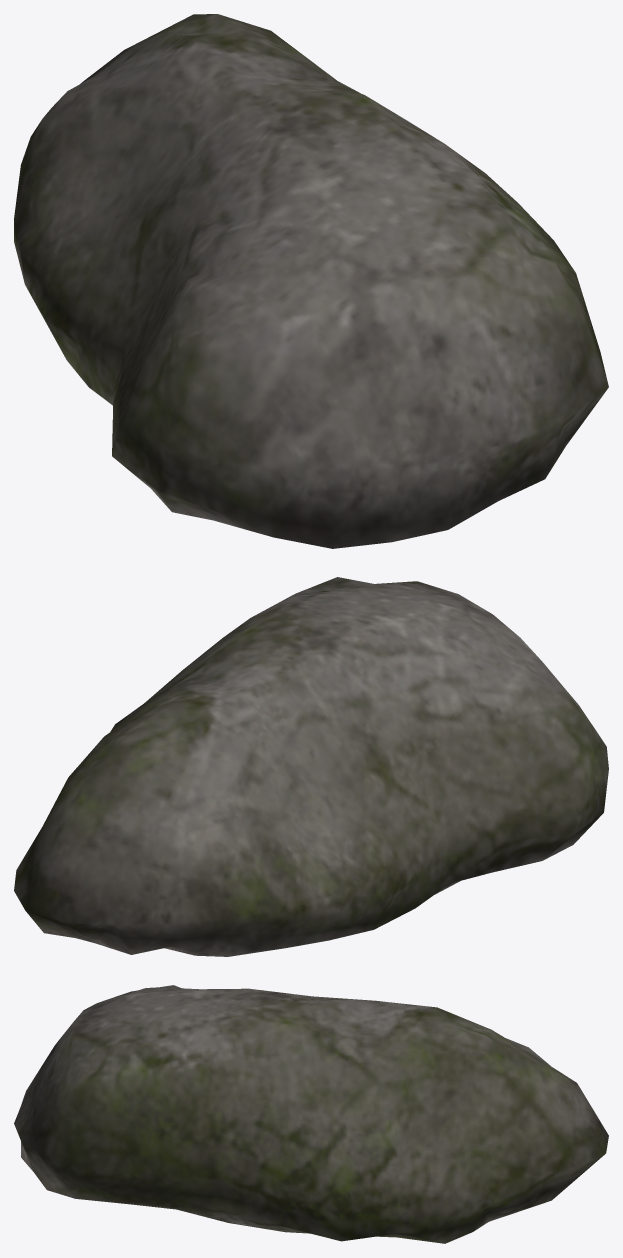
File: rock3.glb
The picture shows the model from 3 angles, top to bottom: view 1: azimuth 30°, elevation 25°; view 2: azimuth 150°, elevation 25°; view 3: azimuth 270°, elevation 25°; orthographic projection. The views are drawn at different scales.
Parts seen in each view (by area): view 1: rock3_low_rocks_texture_0; view 2: rock3_low_rocks_texture_0; view 3: rock3_low_rocks_texture_0.
Part boxes in pixels (x1,y1,x2,y2): rock3_low_rocks_texture_0: (14, 14, 608, 548); rock3_low_rocks_texture_0: (14, 577, 608, 956); rock3_low_rocks_texture_0: (14, 985, 608, 1243).
Bounding box in the file's own units: 0.6802 × 0.3891 × 1.07.
Materials: 1 (1 with a texture image).
